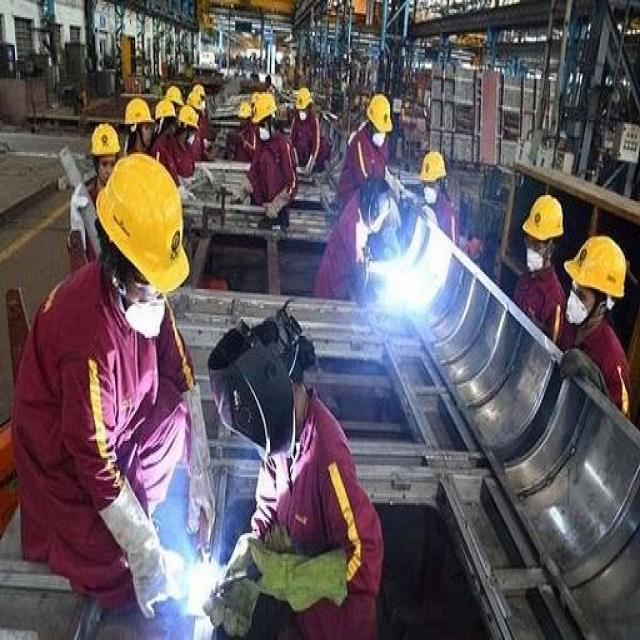Reflective-Jacket: (22, 260, 190, 572), (252, 455, 393, 640), (581, 330, 640, 425), (243, 136, 311, 214), (510, 254, 569, 338), (339, 124, 390, 210)
Safety-Helmet: (94, 154, 195, 300), (568, 236, 628, 298), (521, 192, 565, 242), (365, 92, 394, 135), (89, 120, 120, 160), (121, 94, 155, 128), (418, 148, 448, 186), (251, 90, 279, 124), (178, 102, 202, 132), (154, 94, 176, 122), (294, 84, 314, 112), (236, 98, 252, 122), (258, 128, 272, 142)
